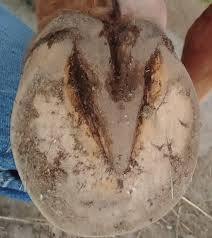horsesole: (10, 28, 201, 238)
